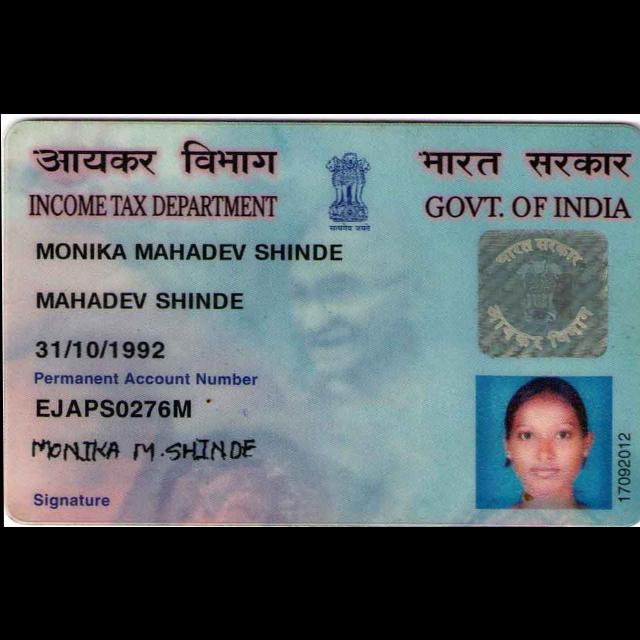pan: (1, 116, 640, 526)
